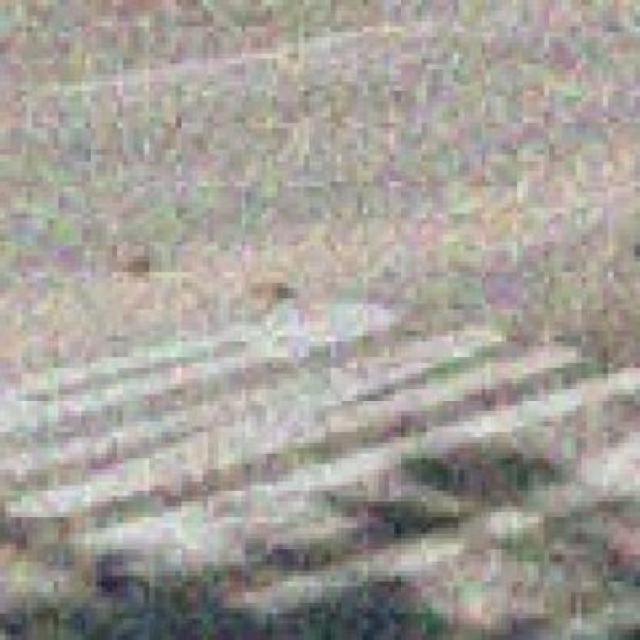crosswalk: (0, 285, 639, 640)
